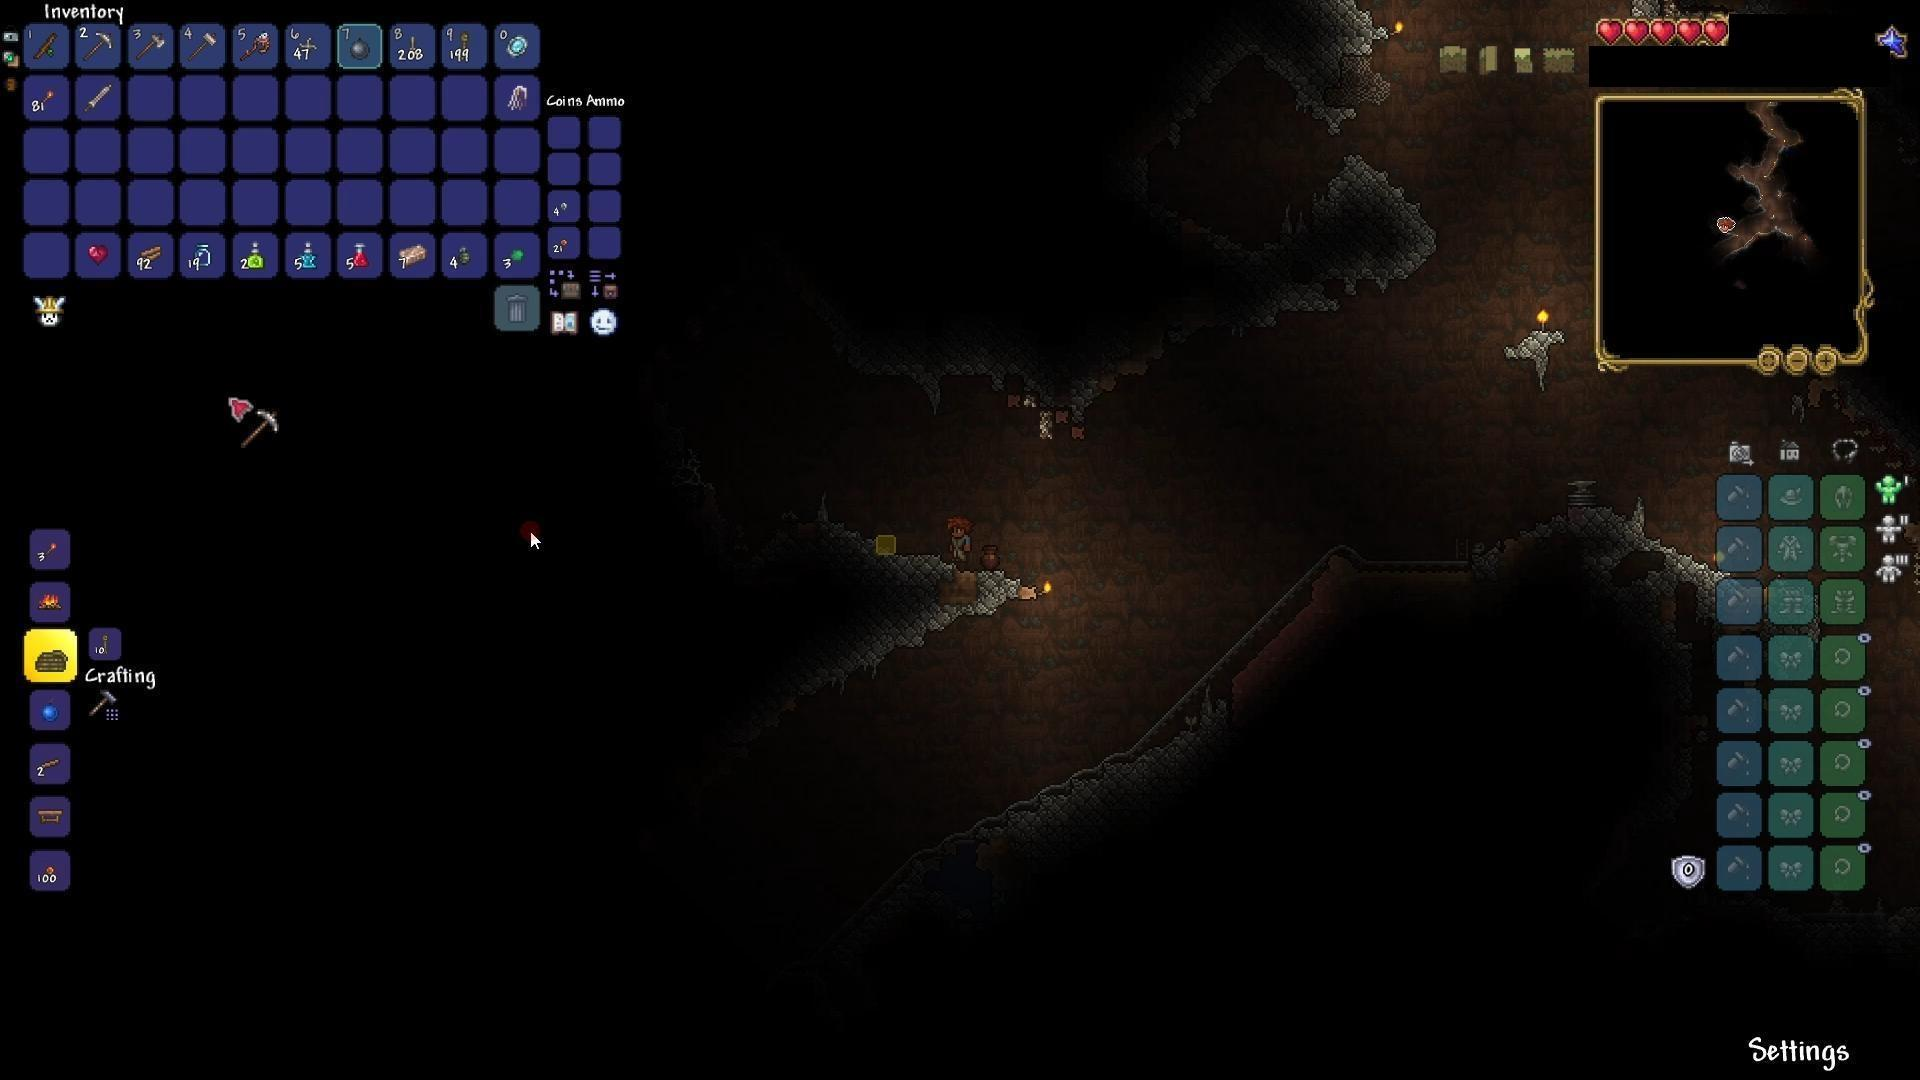heart: (1702, 17, 1733, 51), (1593, 16, 1626, 46), (1676, 15, 1704, 50), (1650, 16, 1676, 49), (1625, 15, 1651, 44)
stone: (1288, 142, 1441, 280), (819, 527, 943, 655), (1572, 508, 1710, 600), (1280, 0, 1379, 105), (870, 340, 1013, 407), (1098, 727, 1218, 791), (990, 789, 1077, 839), (1505, 324, 1571, 380), (968, 578, 1011, 630)
